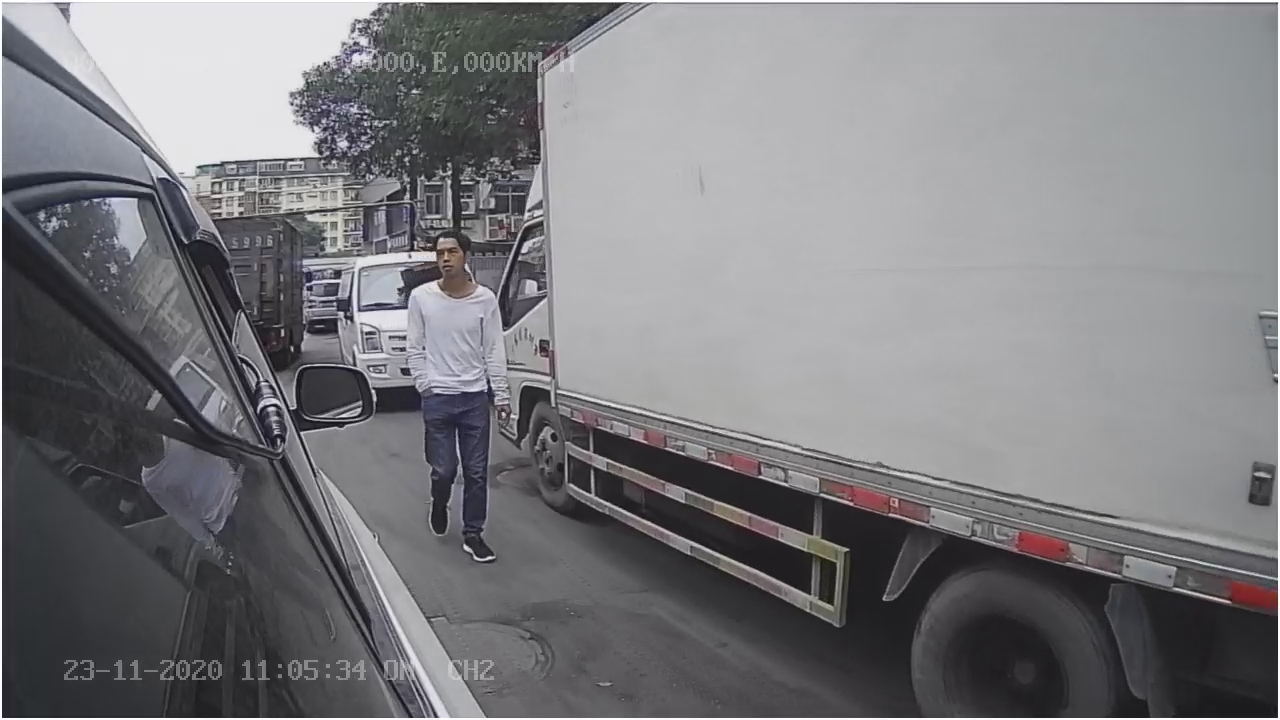person: (400, 229, 515, 564)
